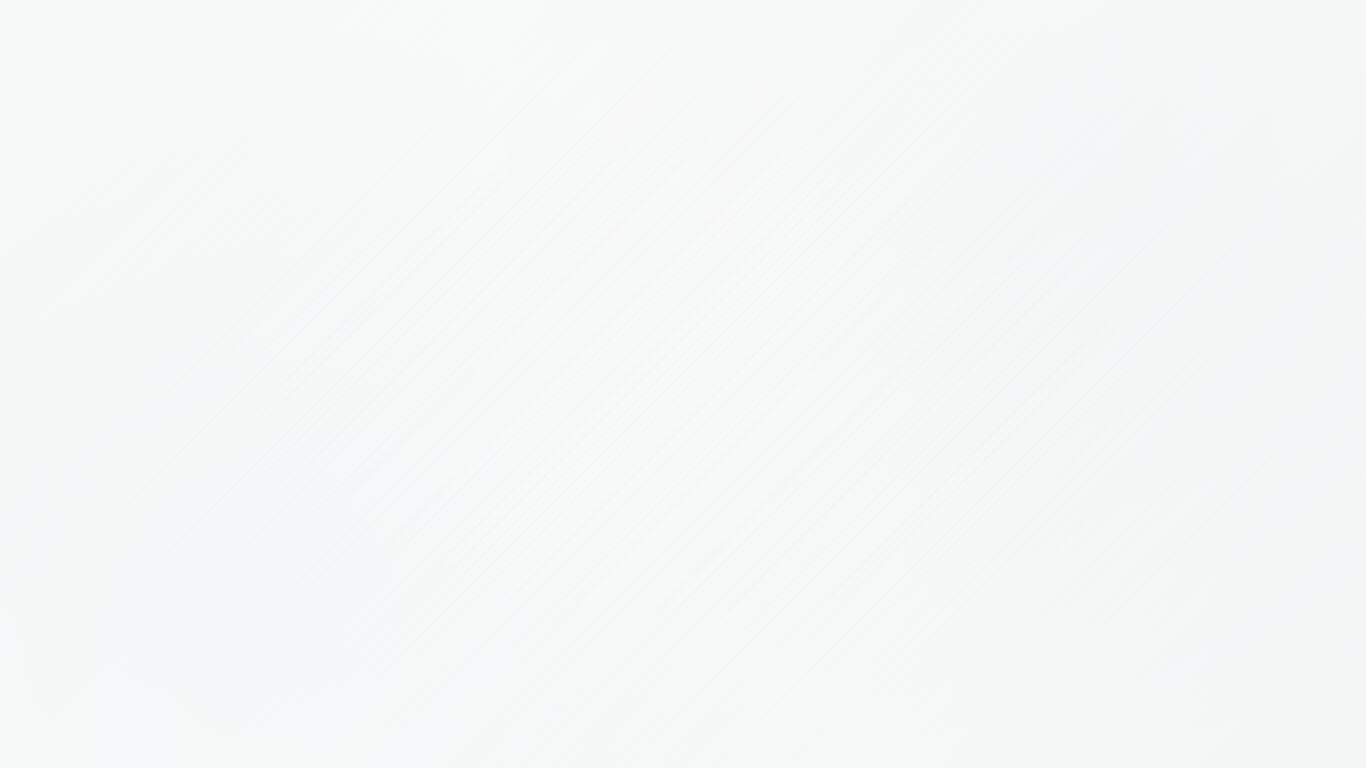
Test: issue #775 — palette action wiring › the shortcuts action closes the palette and opens the dialog through the app-wide hook
Press k
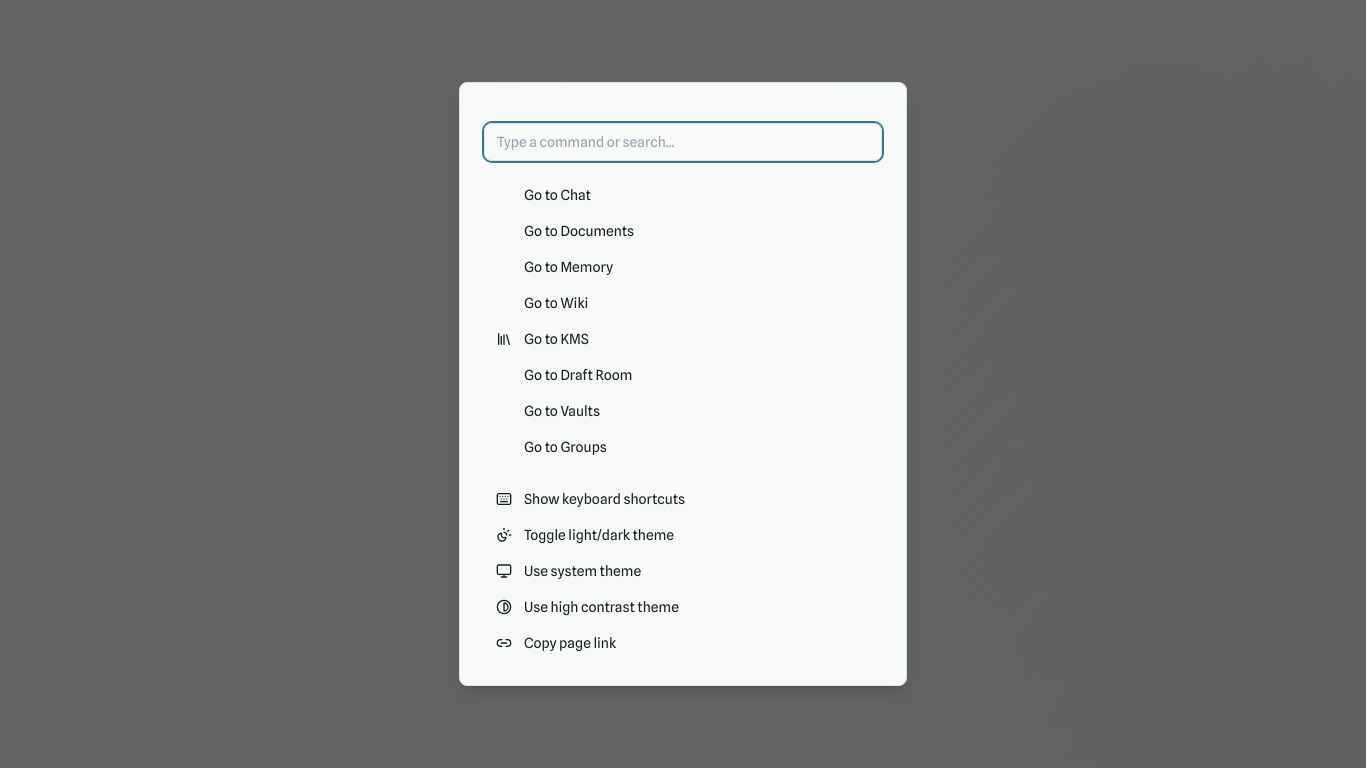
Click the button "Show keyboard shortcuts".
click(683, 499)  # box [484, 481, 882, 517]
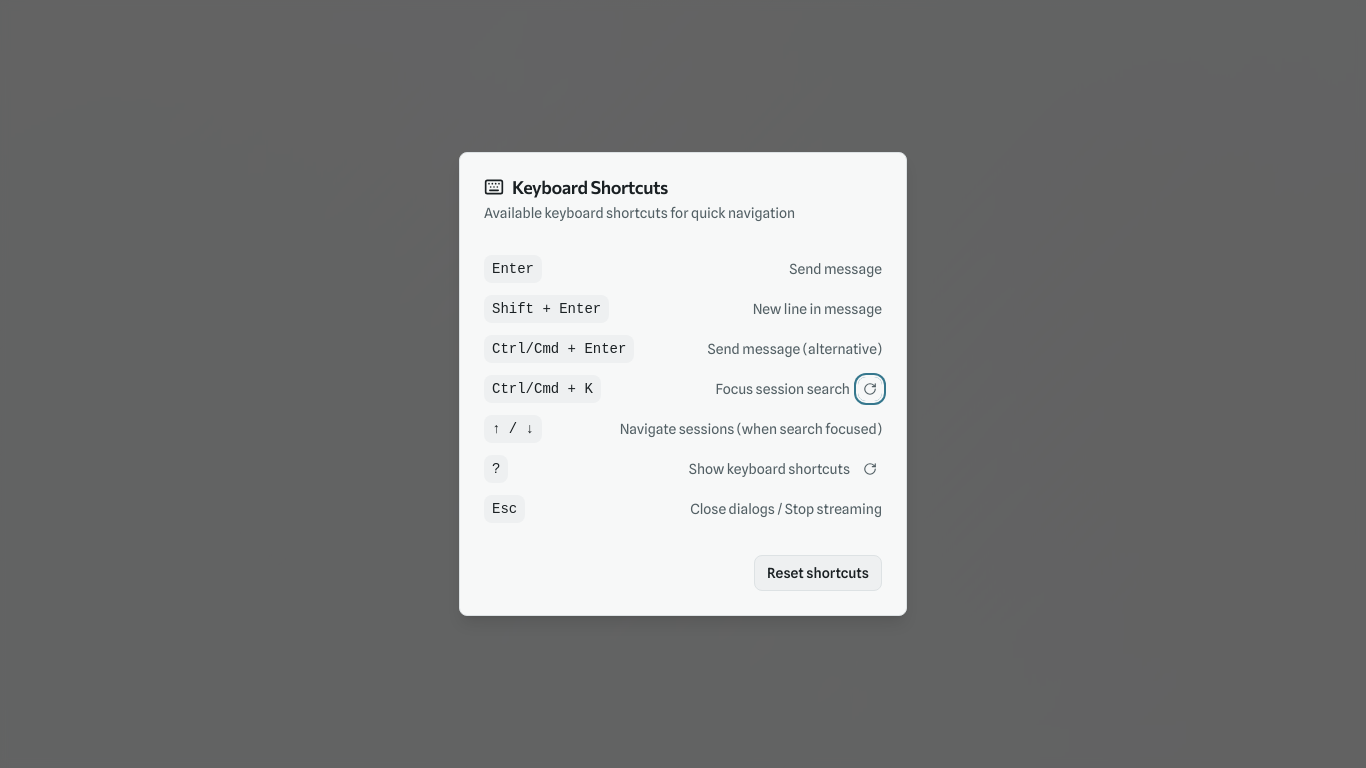
Now the heading "Keyboard Shortcuts" is shown, box [484, 176, 668, 198]
